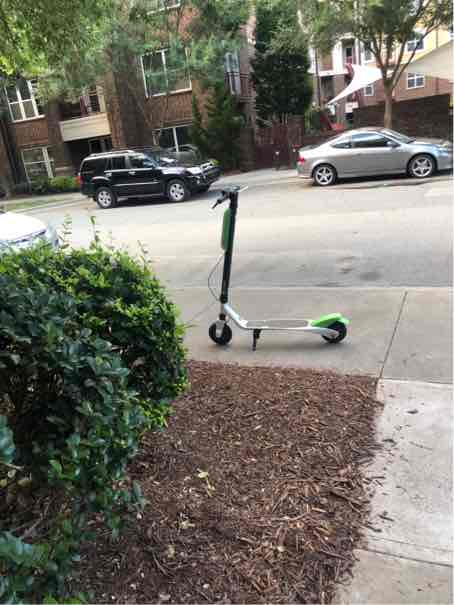scooter: (203, 173, 353, 356)
